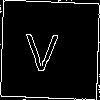V: (25, 25, 60, 72)
